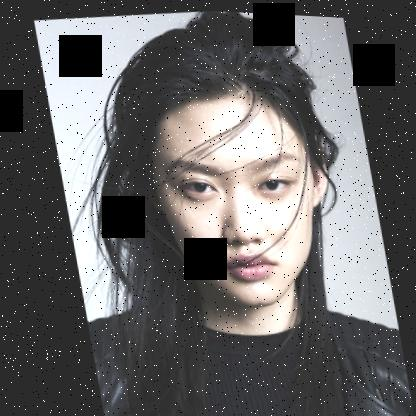Female: (137, 73, 344, 316)
